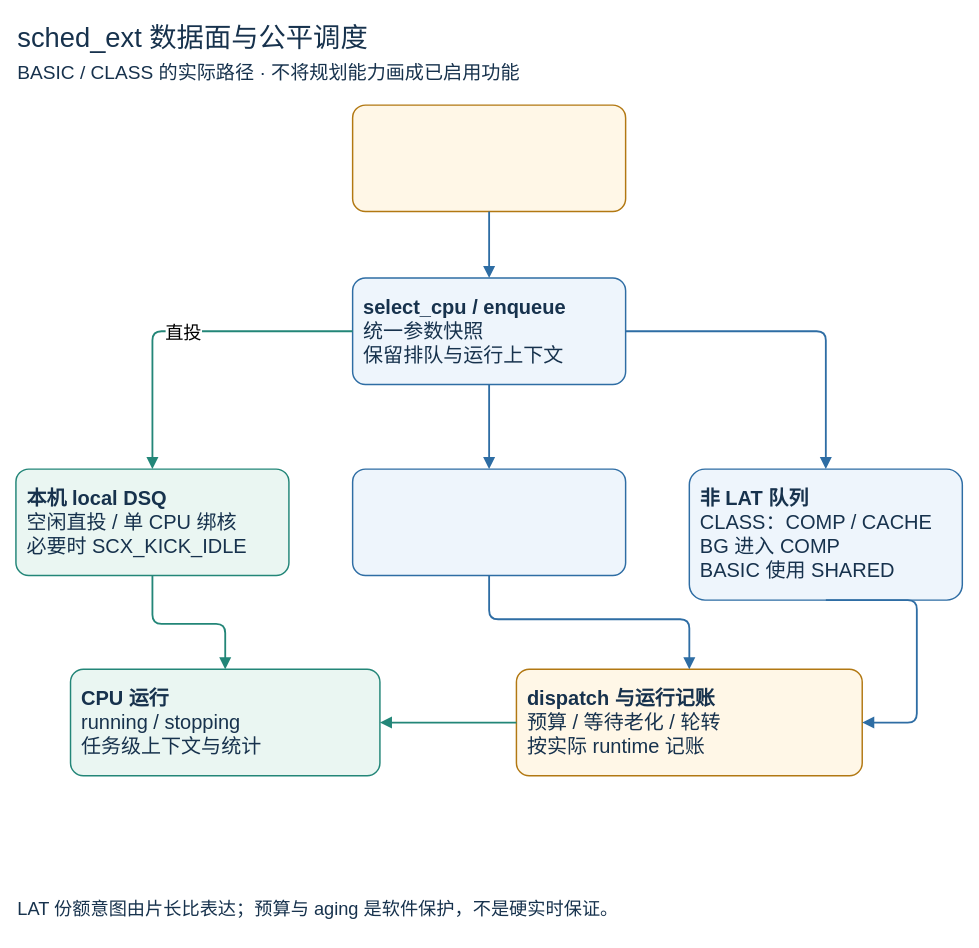
The diagram is 979 pixels wide and 948 high, and some of its shapes have lost their labels. The centre of each missing label's shape, as x and y in pixels:
"LAT 队列 有界优先 份额意图与 aging" goes at (488,522).
"有效策略与任务身份 sp_cfg / class_map task_ctx / 身份 cookie" goes at (488,158).
